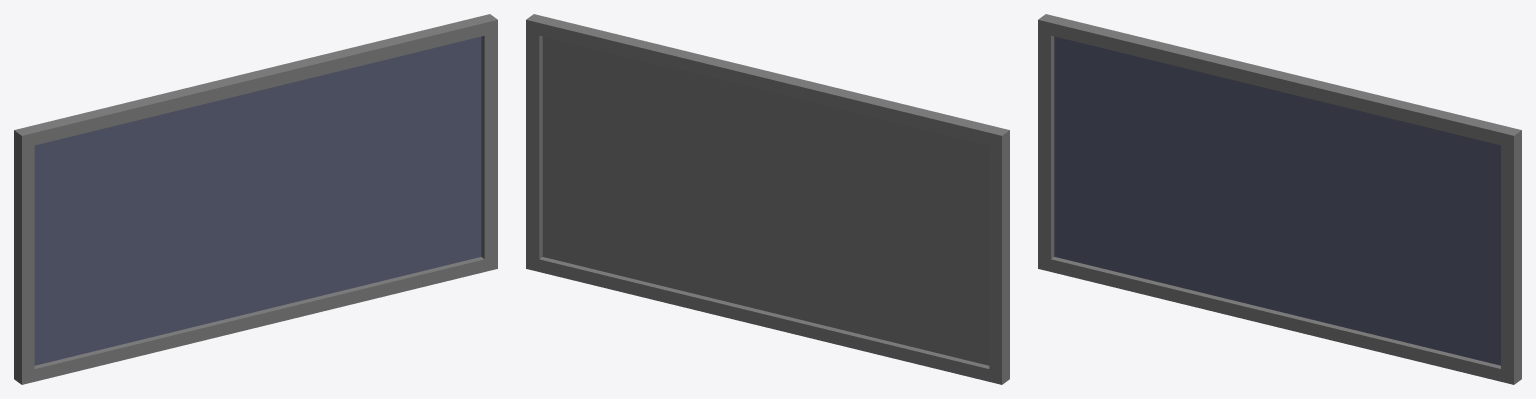
The model's file is Ventana2.fbx.
3 renders of one model, left to right at view 1: azimuth 30°, elevation 25°; view 2: azimuth 150°, elevation 25°; view 3: azimuth 330°, elevation 25°, orthographic.
Parts seen in each view (by area): view 1: Ventana2; view 2: Ventana2; view 3: Ventana2.
Part boxes in pixels (x1,y1,x2,y2): Ventana2: (14, 14, 497, 384); Ventana2: (526, 14, 1009, 384); Ventana2: (1038, 14, 1521, 384).
Bounding box in the file's own units: 140 × 70 × 4.
